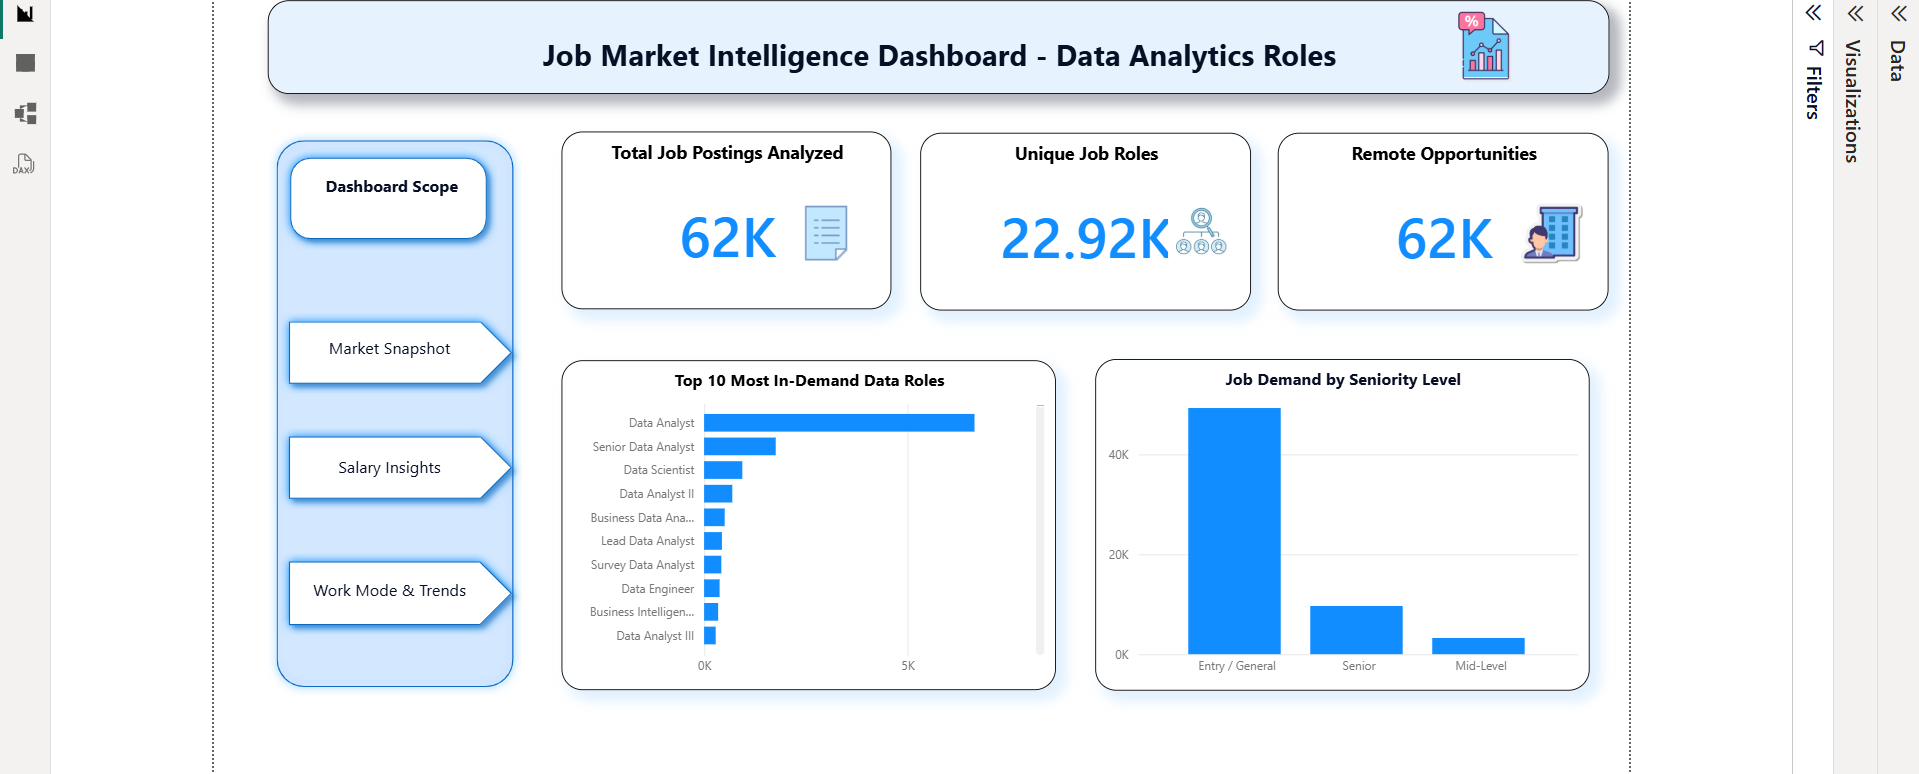

The dashboard page shown, as its layout file describes it:
{"tool":"powerbi","page":{"name":"Overview","canvas":[1280,720],"ordinal":0},"visuals":[{"type":"card","title":"Total Job Postings Analyzed","fields":{"Values":["Sum(job_count_by_title.job_count)"]},"box":[313.9,129.2,298.6,161.1],"z":0},{"type":"card","title":"Unique Job Roles","fields":{"Values":["Count(job_count_by_title.title)"]},"box":[638.6,129.7,299,161.1],"z":1000},{"type":"card","title":"Remote Opportunities","fields":{"Values":["Sum(remote_vs_worktype.job_count)"]},"box":[962.1,129.7,299.3,161.1],"z":2000},{"type":"clusteredBarChart","title":"Top 10 Most In-Demand Data Roles","fields":{"Category":["job_count_by_title.title"],"Y":["Sum(job_count_by_title.job_count)"]},"box":[313.9,336.1,447.2,298.6],"z":3000},{"type":"columnChart","title":"Job Demand by Seniority Level","fields":{"Y":["Sum(job_count_by_title.job_count)"],"Category":["job_count_by_title.Seniority"]},"box":[797.2,334.7,447.2,300],"z":4000},{"type":"shape","box":[48.8,129.1,230.2,510.5],"z":5000},{"type":"textbox","box":[48.6,9.7,1213.9,84.7],"z":6000},{"type":"image","box":[1111.1,9.7,76.4,84.7],"z":7000},{"type":"image","box":[513.9,188.9,79.2,63.9],"z":8000},{"type":"shape","box":[59.3,291.9,219.8,74.4],"z":9000},{"type":"shape","box":[59.3,395.3,219.8,74.4],"z":10000},{"type":"shape","box":[59.3,509.3,219.8,75.6],"z":11000},{"type":"shape","box":[59.7,143.1,195.8,91.7],"z":12000},{"type":"textbox","box":[76.7,162.8,164,34.9],"z":13000},{"type":"image","box":[858.3,144.4,69.4,151.4],"z":14000},{"type":"image","box":[1173.6,180.6,70.8,79.2],"z":15000},{"type":"textbox","box":[76.4,416.7,163.9,31.9],"z":16000},{"type":"textbox","box":[76.7,309.3,164,36],"z":17000},{"type":"textbox","box":[76.4,527.8,163.9,40.3],"z":18000}]}

Visuals, with their boxes on the page's 1280x720 design canvas (x1, y1, x2, y2). These are canvas units, not pixel positions in the 1919x774 screenshot, which may show the page scaled, cropped or inside an application window:
"Total Job Postings Analyzed" card: l=314, t=129, r=612, b=290
"Unique Job Roles" card: l=639, t=130, r=938, b=291
"Remote Opportunities" card: l=962, t=130, r=1261, b=291
"Top 10 Most In-Demand Data Roles" clusteredBarChart: l=314, t=336, r=761, b=635
"Job Demand by Seniority Level" columnChart: l=797, t=335, r=1244, b=635
shape: l=49, t=129, r=279, b=640
textbox: l=49, t=10, r=1262, b=94
image: l=1111, t=10, r=1188, b=94
image: l=514, t=189, r=593, b=253
shape: l=59, t=292, r=279, b=366
shape: l=59, t=395, r=279, b=470
shape: l=59, t=509, r=279, b=585
shape: l=60, t=143, r=256, b=235
textbox: l=77, t=163, r=241, b=198
image: l=858, t=144, r=928, b=296
image: l=1174, t=181, r=1244, b=260
textbox: l=76, t=417, r=240, b=449
textbox: l=77, t=309, r=241, b=345
textbox: l=76, t=528, r=240, b=568
